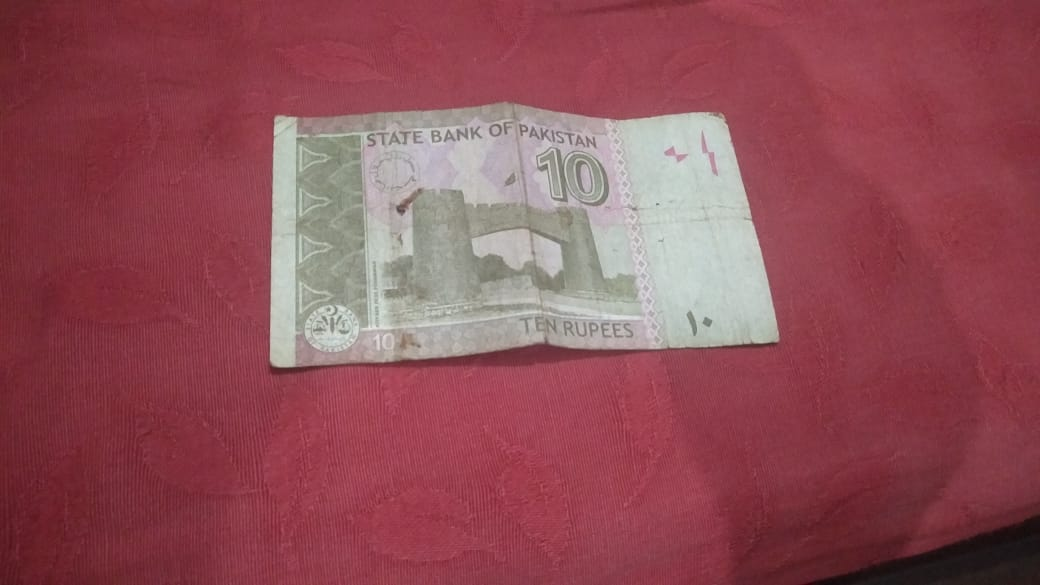10 rupee: (273, 111, 782, 360)
